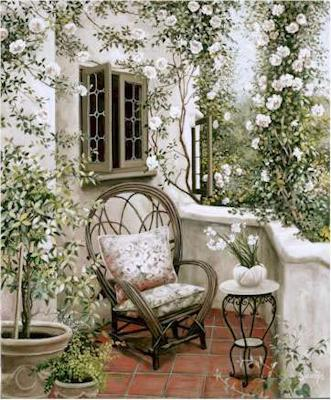chair: (72, 177, 210, 366)
pottedplant: (1, 148, 70, 397), (202, 219, 268, 286)
